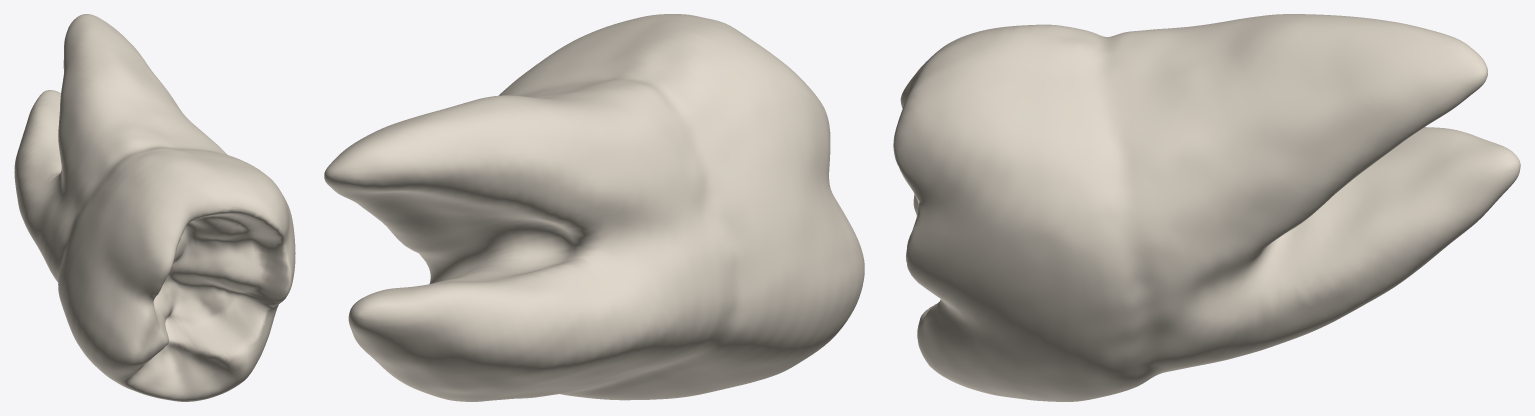
File: r3-prep-inlay-36.glb
The picture shows the model from 3 angles, left to right: view 1: azimuth 30°, elevation 25°; view 2: azimuth 150°, elevation 25°; view 3: azimuth 270°, elevation 25°; orthographic projection. The views are drawn at different scales.
Bounding box in the file's own units: 9.7 × 11.04 × 16.4.
